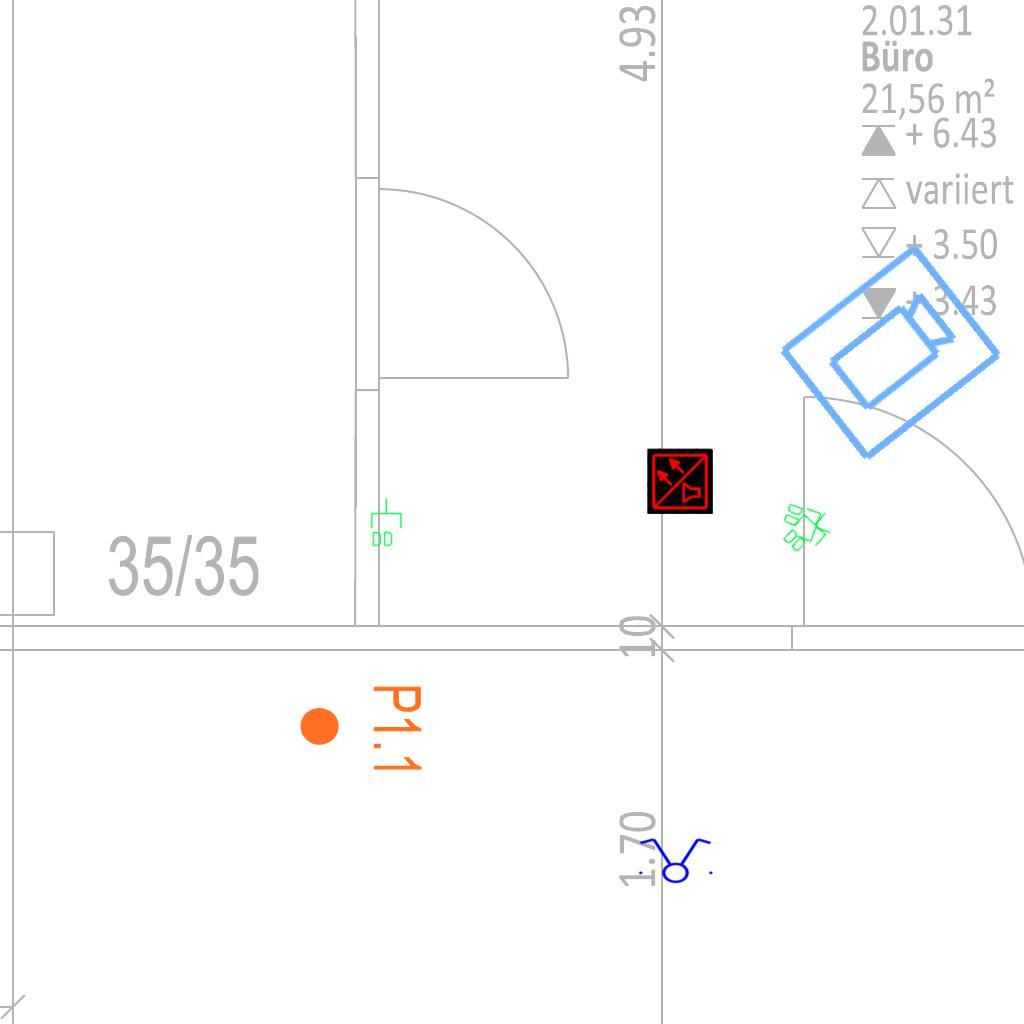Datenanschluss_zweifach: (778, 500, 839, 562), (777, 499, 838, 549), (369, 497, 403, 548)
Downlight_LED_Einbauleuchten_Flur: (297, 683, 425, 776)
KFO_Kamera_mit_Festobjektiv: (771, 237, 1011, 471)
OKW_Multisensormelder_(Kombination_optischer_Rauch-Kahlenmonoxid_Waerme-Melder): (647, 448, 713, 514)
Serienschalter: (633, 836, 717, 884)
